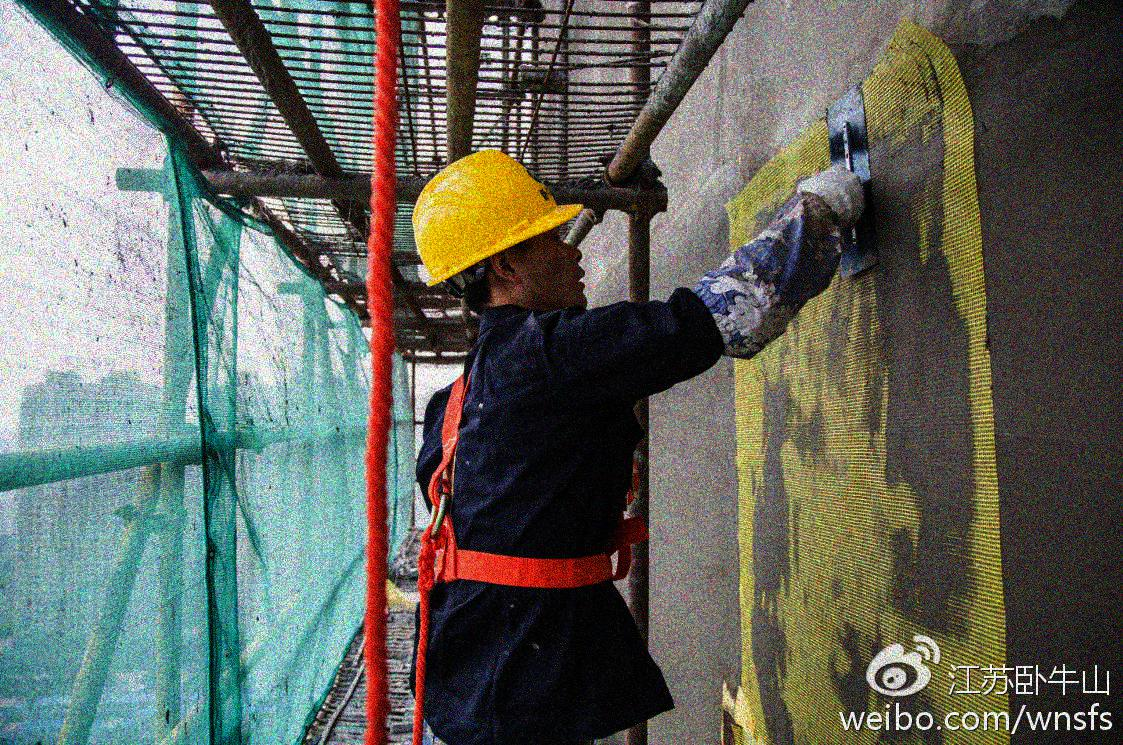helmet: (406, 149, 597, 312)
